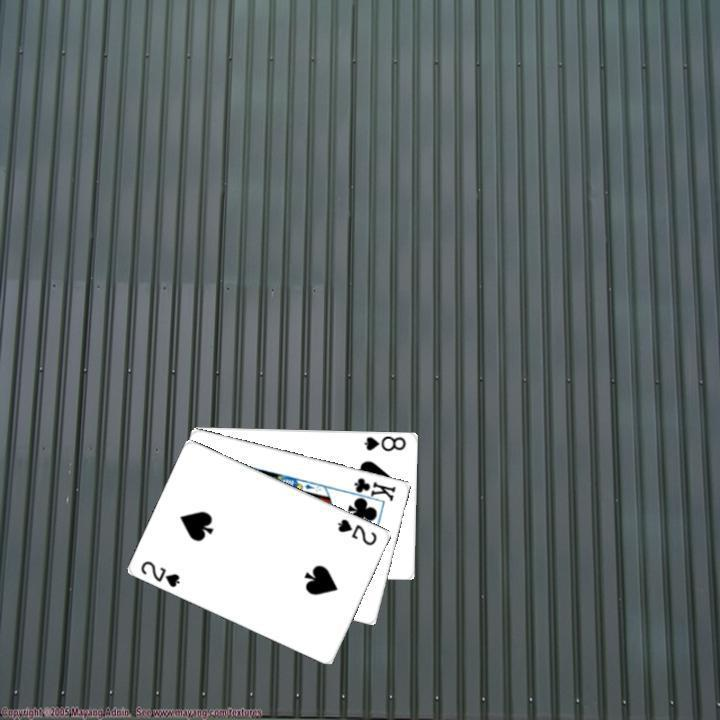2: (333, 514, 379, 547), (137, 556, 182, 589)
8: (360, 432, 408, 453)
K: (343, 473, 398, 505)
